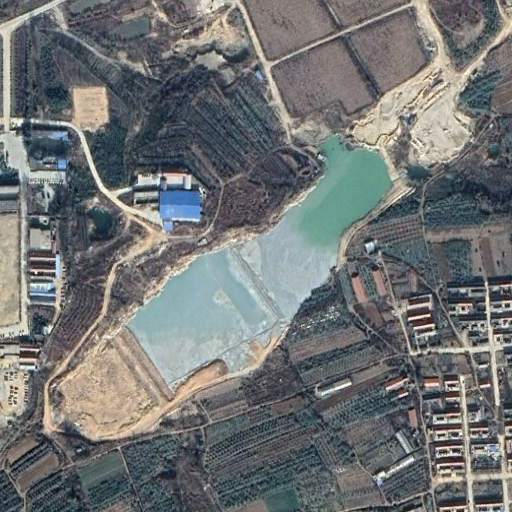tp: (129, 124, 408, 398)
